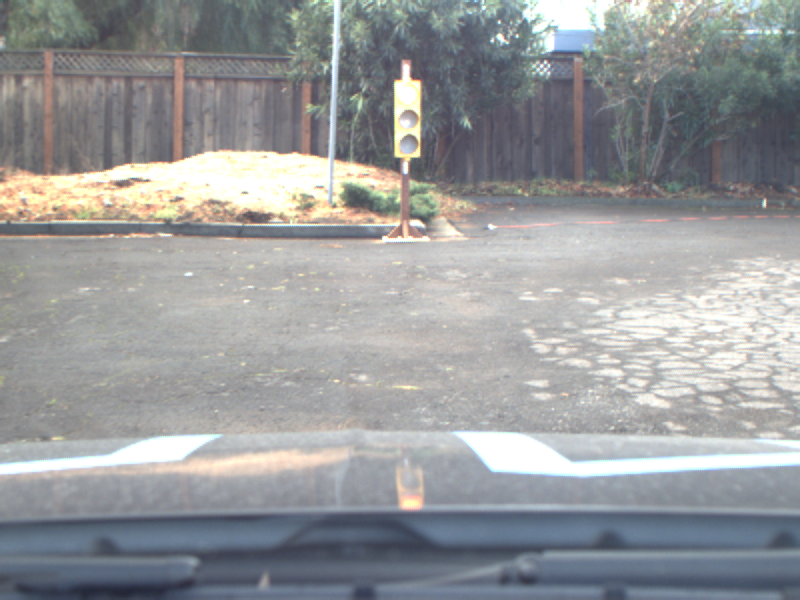Red: (393, 80, 422, 159)
